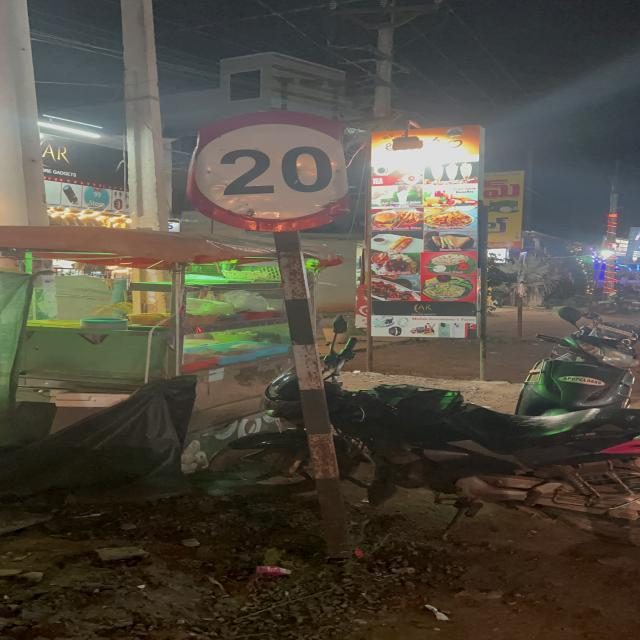speedlimit_20: (182, 113, 368, 234)
